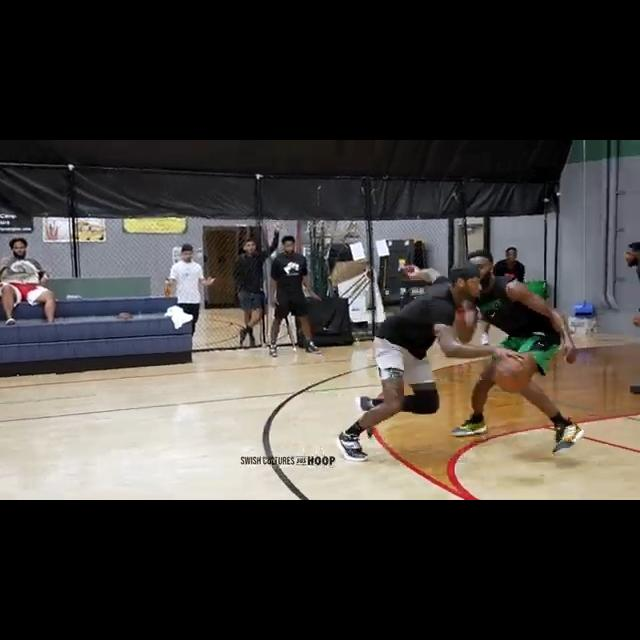basketball: (495, 357, 532, 395)
person: (335, 265, 494, 462), (451, 249, 585, 456), (268, 233, 327, 357), (0, 237, 58, 327), (477, 243, 526, 346), (168, 237, 213, 349), (232, 229, 267, 346), (624, 239, 640, 395)
